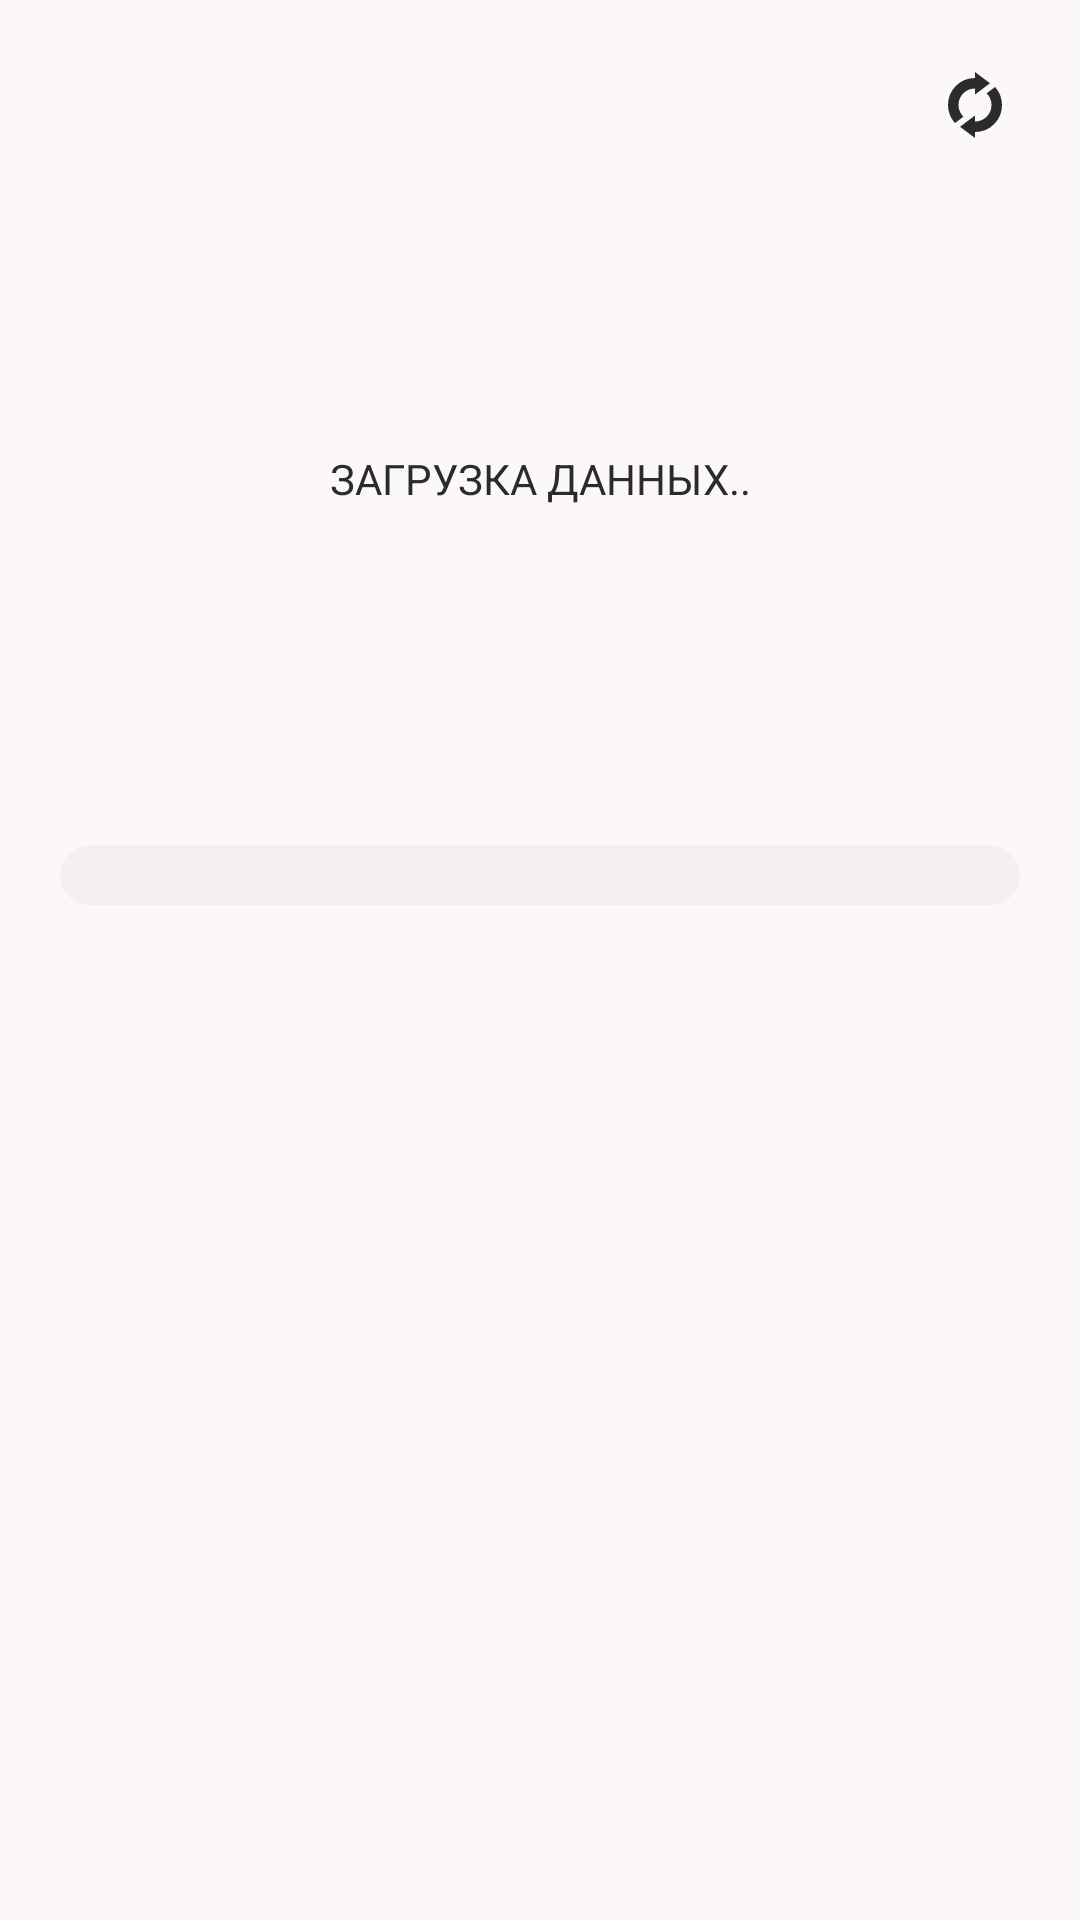

Icons on this 1080w x 1920h Android screen, each with its box as (x1, y1, x2, y2):
directory sync: (948, 72, 1002, 138)
